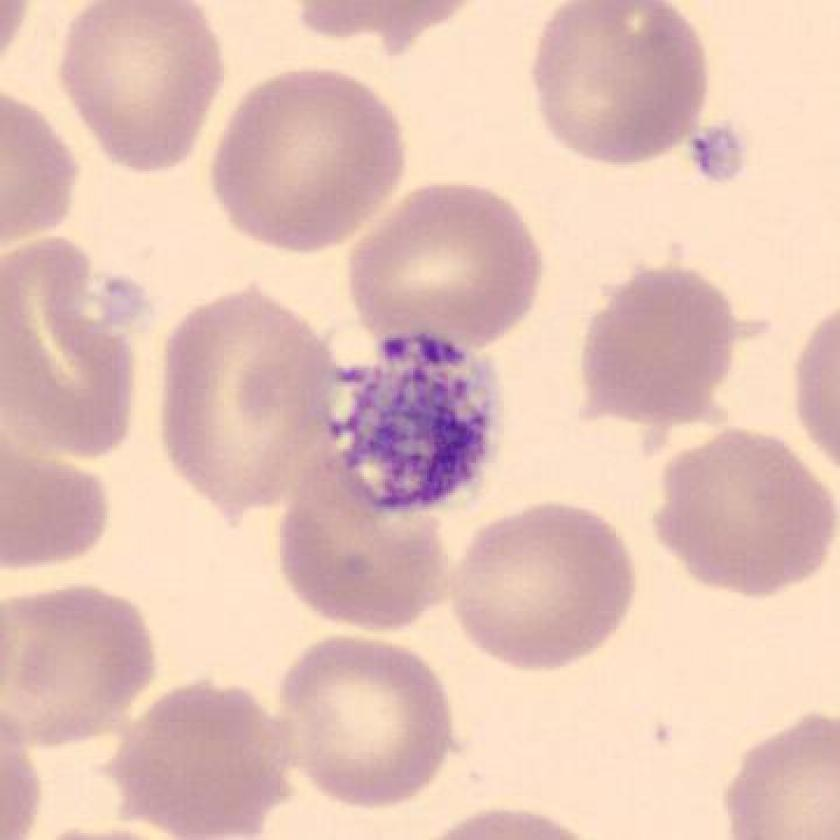platelets: (318, 325, 512, 519), (680, 117, 748, 188)
